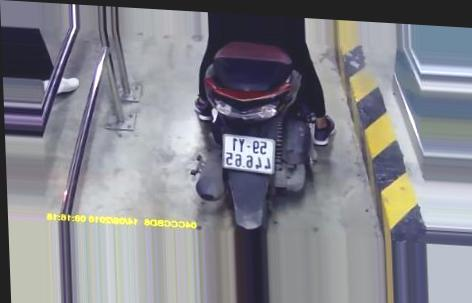License_Plate: (217, 131, 283, 177)
